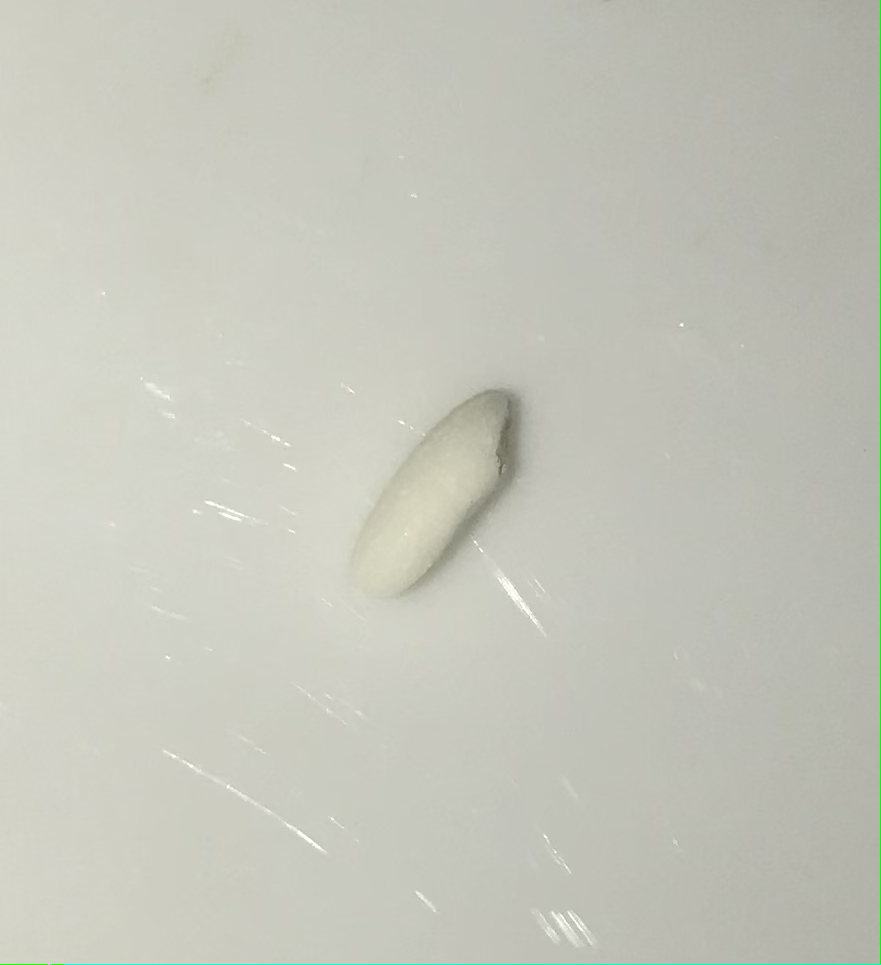Gao Nep Sap: (315, 366, 544, 609)
